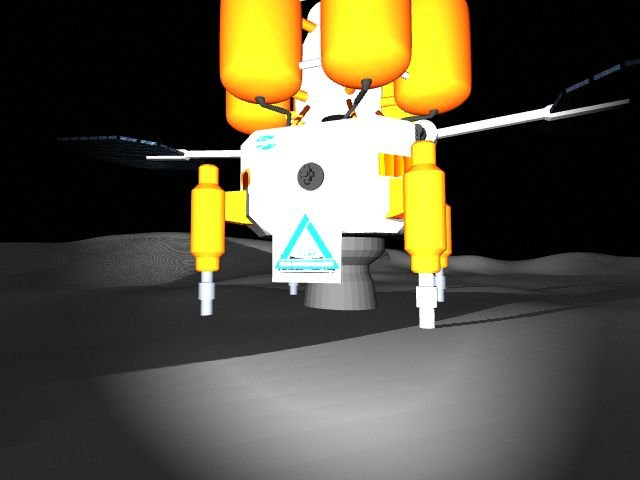basemarker: (275, 213, 340, 274)
